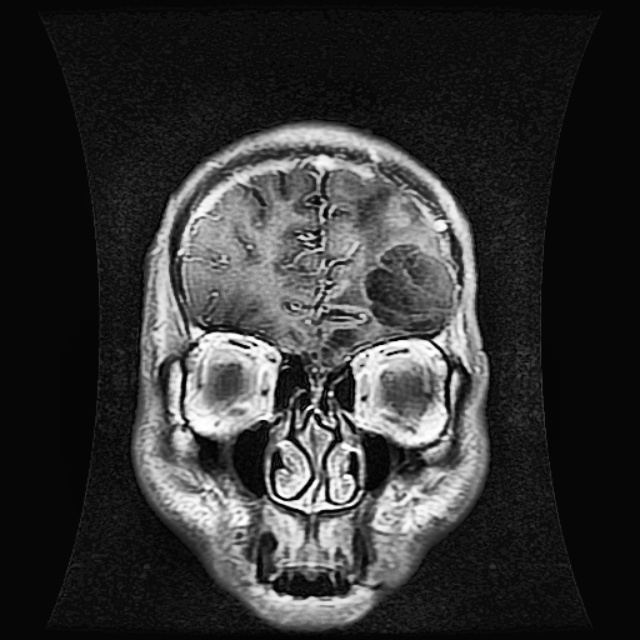Meningioma: (362, 240, 457, 334)
